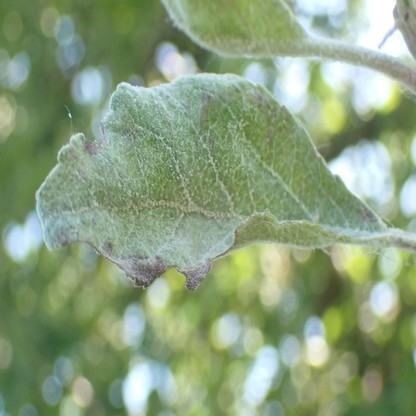powder: (36, 73, 387, 295), (164, 0, 309, 58)
